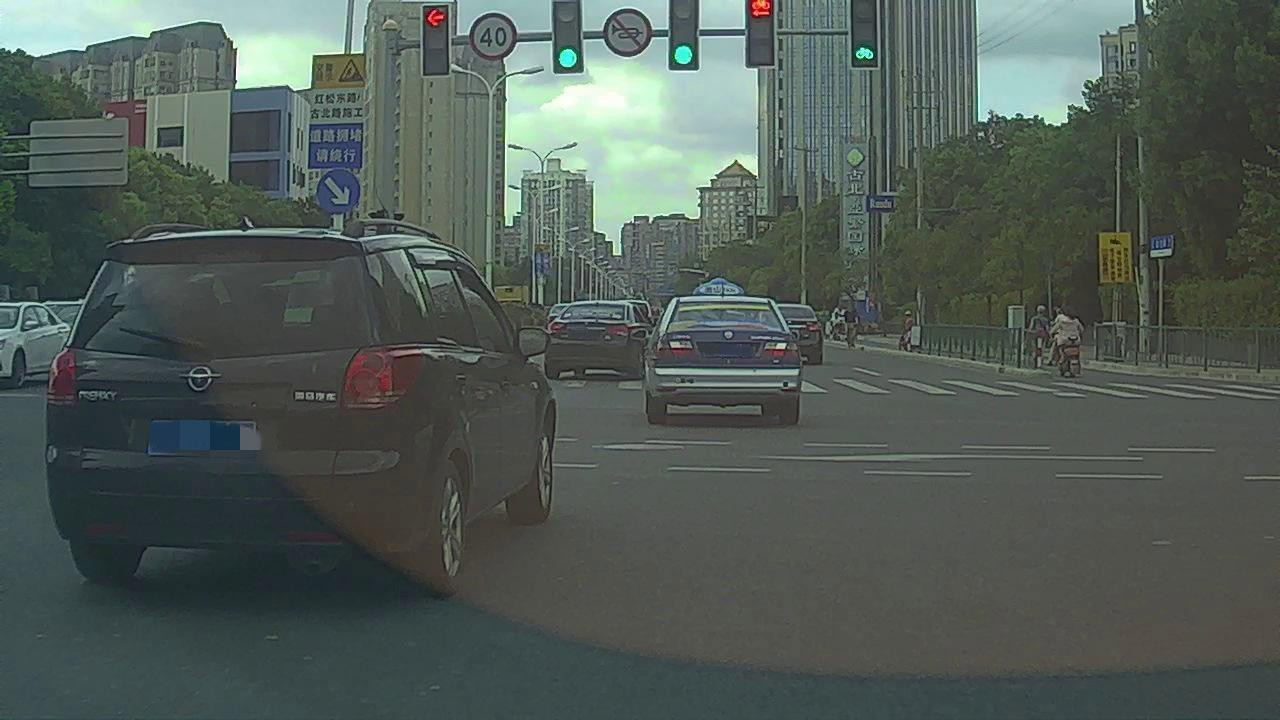traffic_light: (668, 1, 699, 69), (745, 1, 777, 65), (553, 1, 582, 71), (421, 2, 448, 74), (853, 10, 879, 69)
